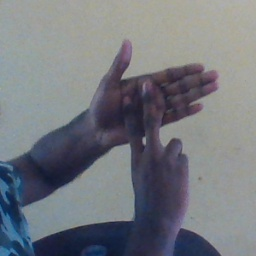N: (82, 33, 225, 205)
